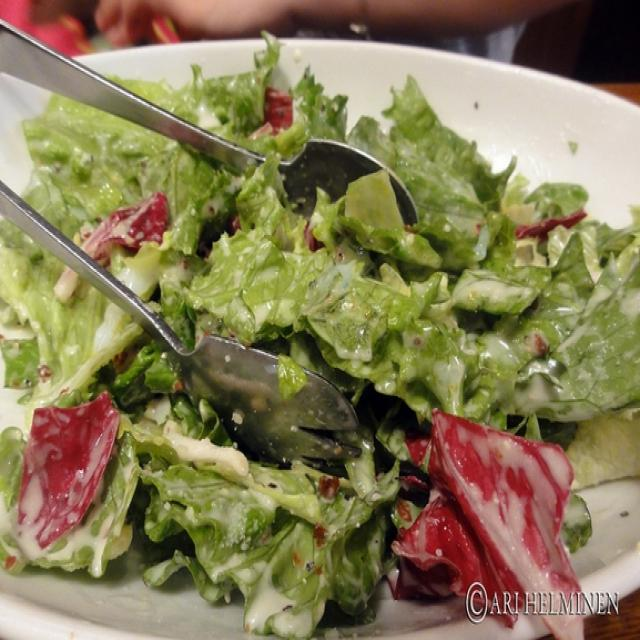蔬菜料理: (3, 24, 626, 634)
